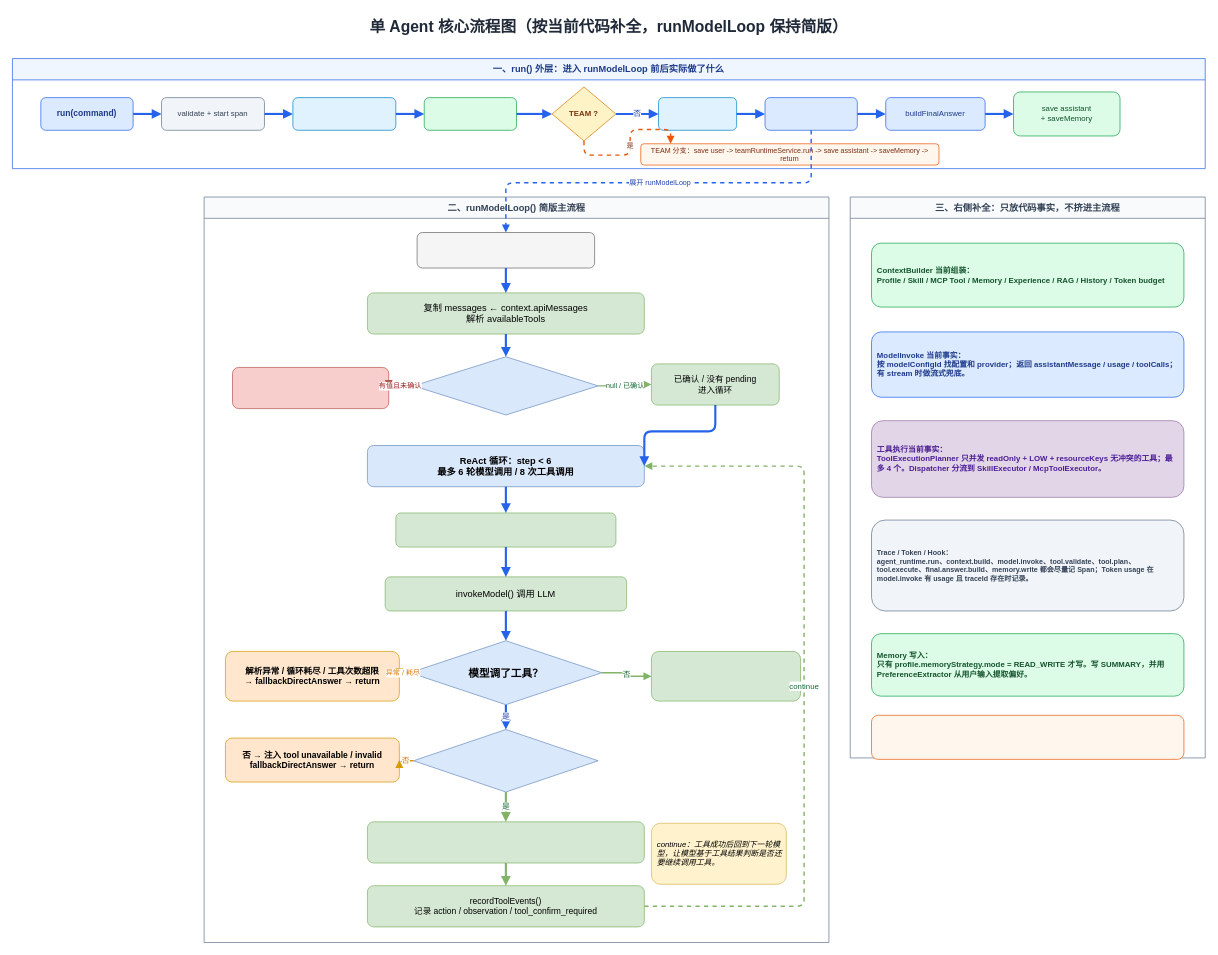
Image size: 1218x955. Some labels were removed from this diagram. The shapes that lost their labels are listed below. From the top down, each one's centre as x and y in pixels, then its label:
the point at 344,113: ensureConversation
the point at 470,113: buildContext
the point at 697,113: save user
the point at 810,113: runModelLoop
the point at 505,250: runModelLoop() 入口
the point at 310,388: 未确认 → 注入确认提示 fallbackDirectAnswer → return
the point at 505,385: pendingToolCall != null ?
the point at 505,529: compactMessages()
the point at 726,676: 没调工具 尝试天气 repair 仍无工具 → 返回最终答案
the point at 1027,737: 本图没有画的东西：LangGraph、Planner、Reviewer、图状态机、多 Agent 角色拆分。当前单 Agent 代码没有这些主链路。
the point at 505,760: 工具可用且参数有效？
the point at 505,842: executeToolBatch() 执行工具 结果写入 messages
